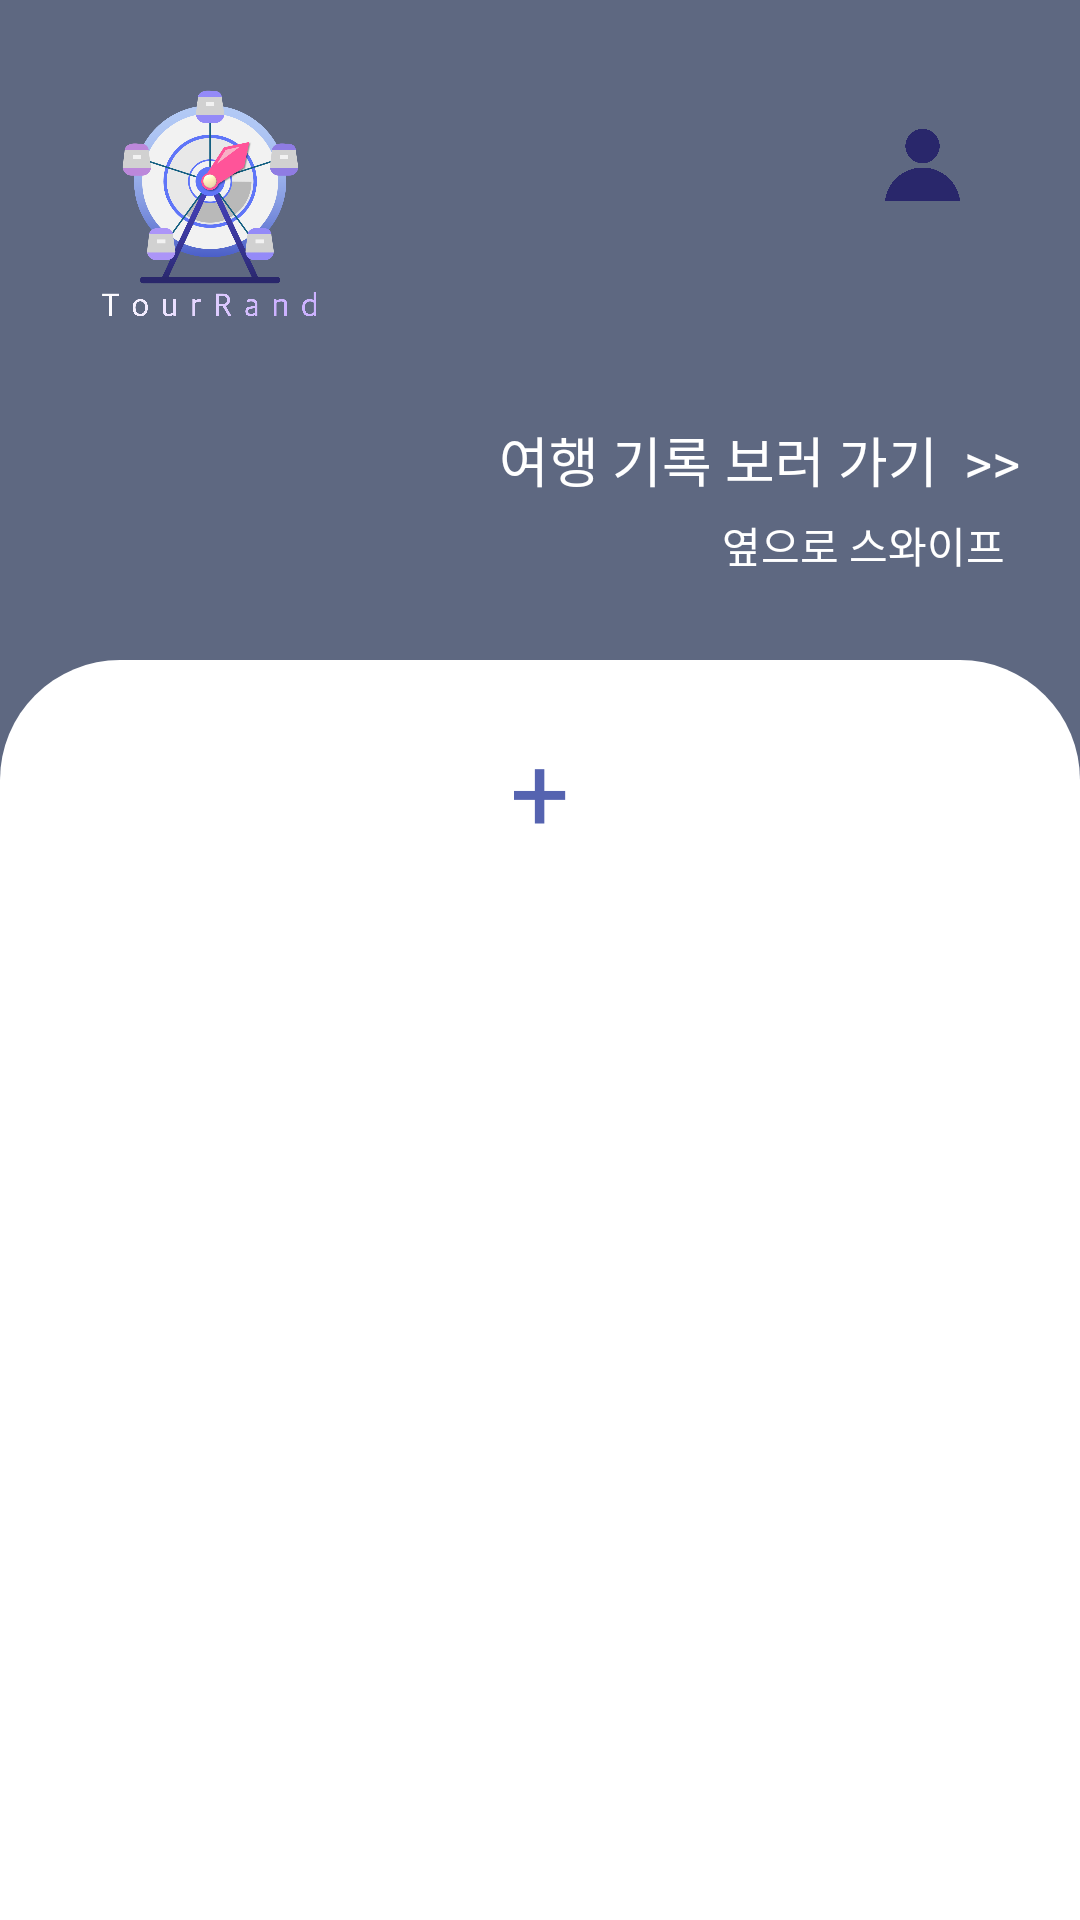

Screen size 1080px×1920px. Icon name, then its center in pixels as point (x, y):
mypage: point (922, 165)
